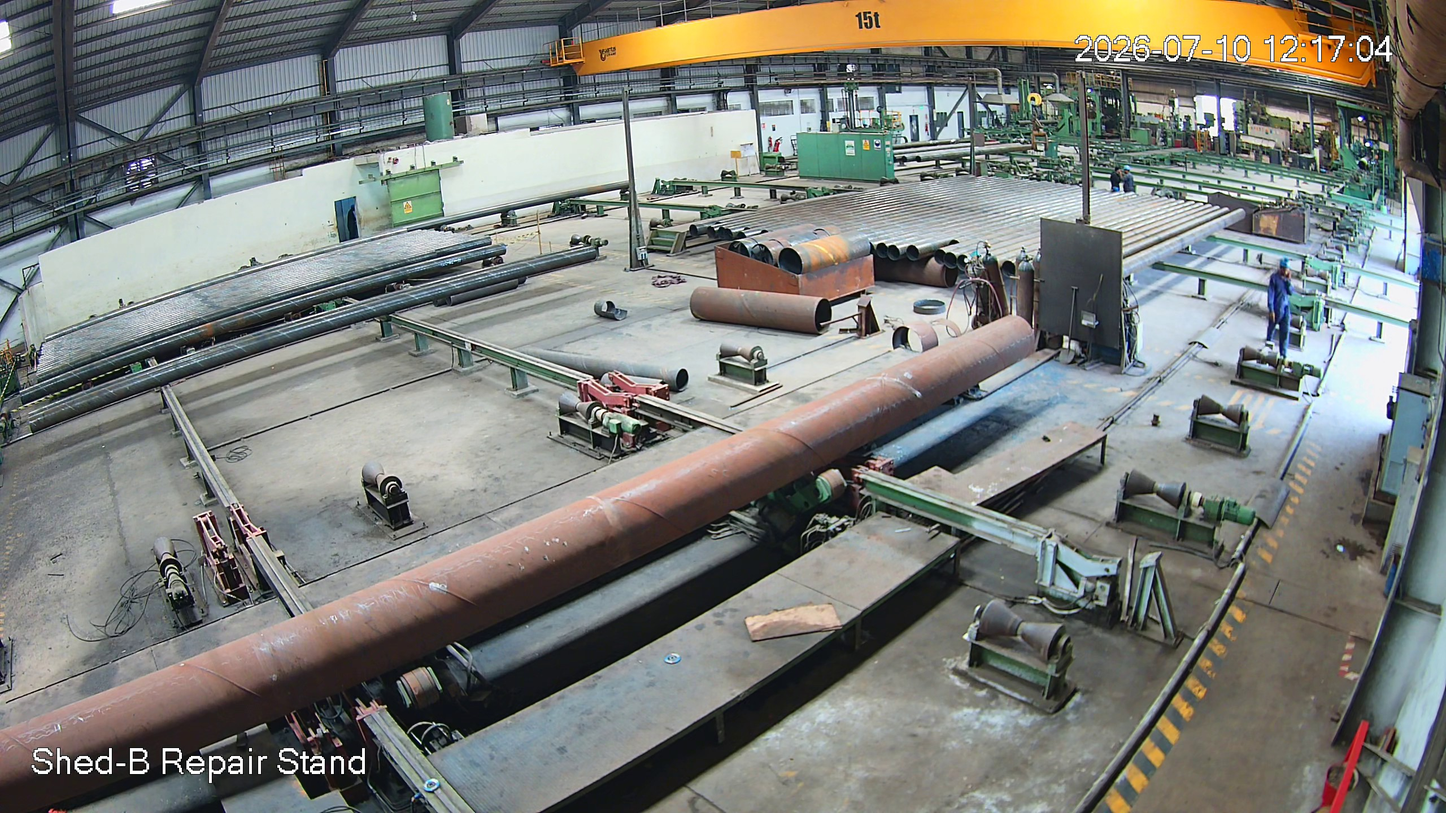Helmet: (1279, 257, 1295, 280)
Person: (1266, 259, 1295, 358)
